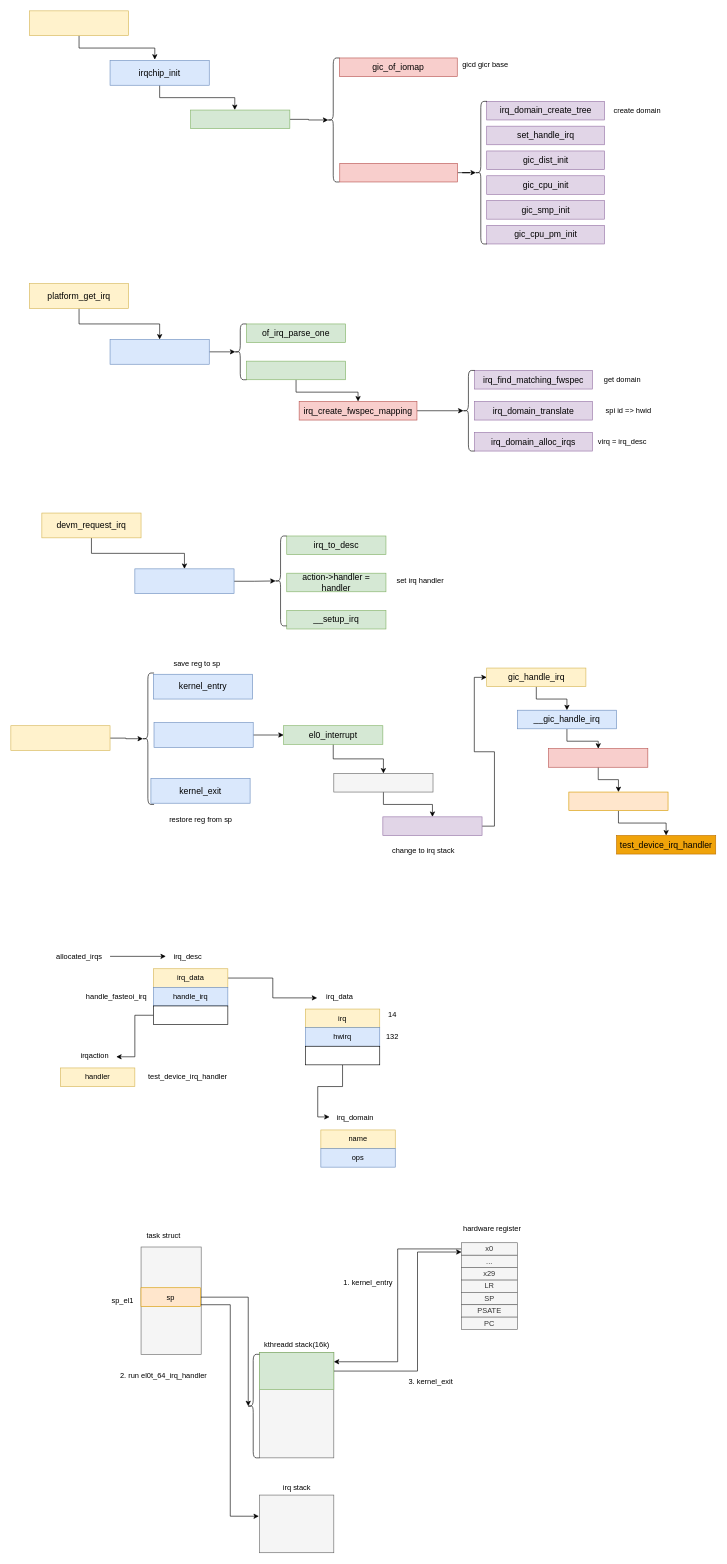
Image size: 727x1564. Some labels were removed from this diagram. Each missing label, with the box of its shape:
action: (153, 1005, 228, 1025)
action->handler: (568, 791, 668, 811)
call_on_irq_stack: (382, 816, 482, 835)
do_interrupt_handler: (333, 773, 433, 792)
domain: (305, 1046, 380, 1065)
el0t_64_irq: (10, 725, 110, 751)
el0t_64_irq_handler: (153, 722, 253, 747)
gic_init_bases: (339, 163, 458, 182)
gic_of_init: (190, 109, 290, 129)
handle_irq_event_percpu: (548, 748, 648, 767)
init_IRQ: (29, 10, 129, 36)
irq_create_of_mapping: (246, 361, 346, 380)
of_irq_get: (109, 339, 209, 364)
pt regs: (259, 1352, 334, 1390)
request_threaded_irq: (134, 568, 234, 594)
